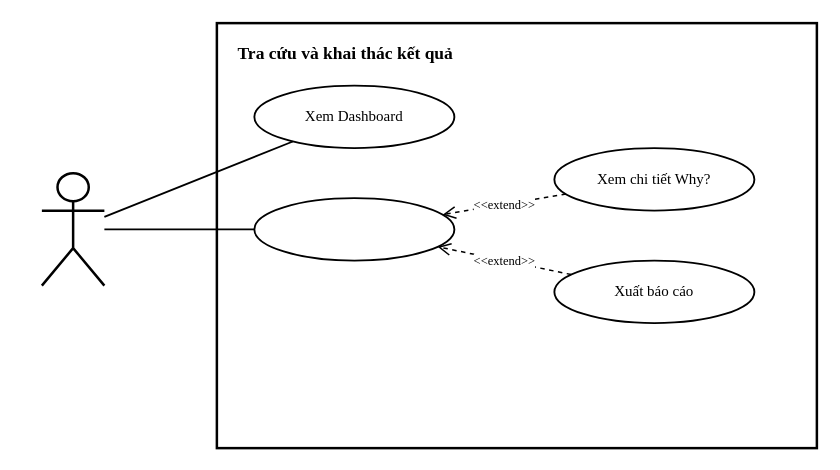
The diagram is 840 pixels wide and 470 high, and some of its shapes have lost their labels. Each missing label, with the centre of its shape:
"Người phân tích" goes at [72,228].
"Tra cứu giao dịch" goes at [354,229].
